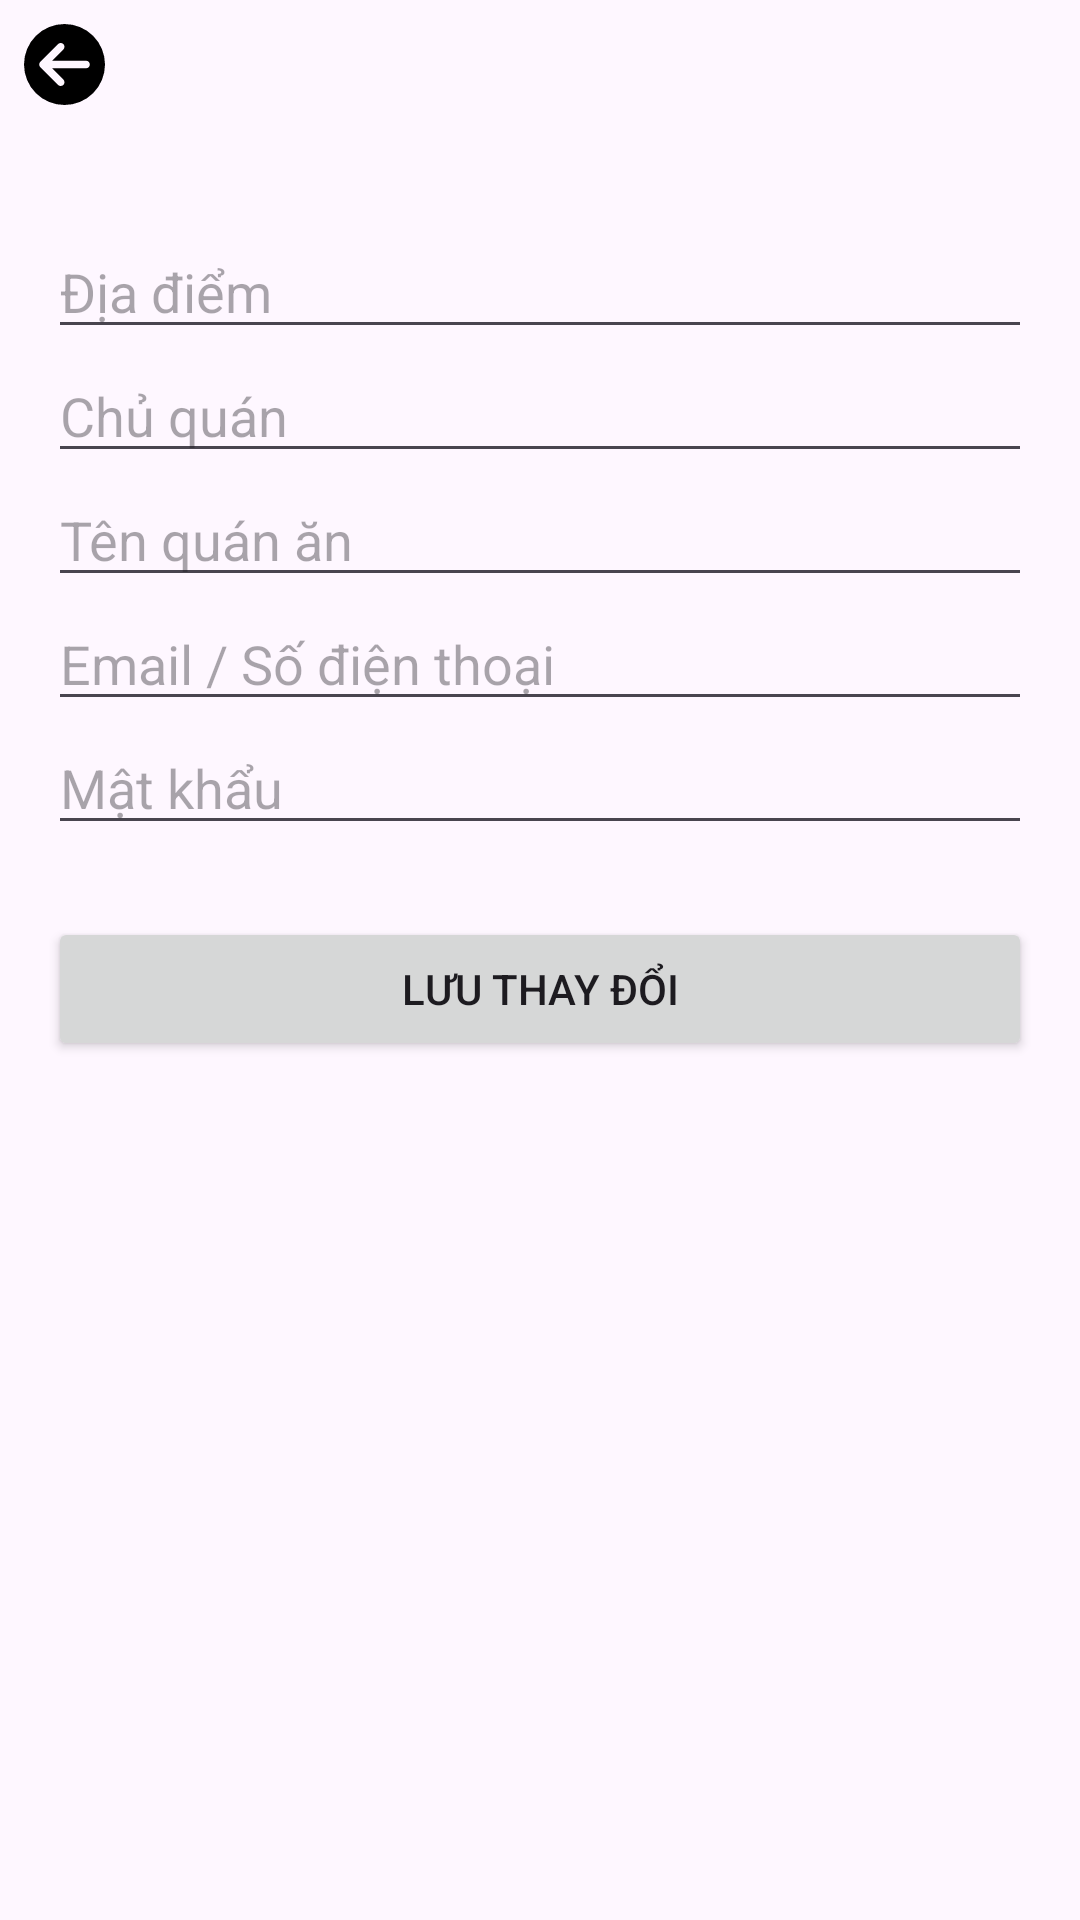

Icon click points for this 1080w x 1920h phone screenshot, format [x,y]:
circle arrow left: [64,64]
